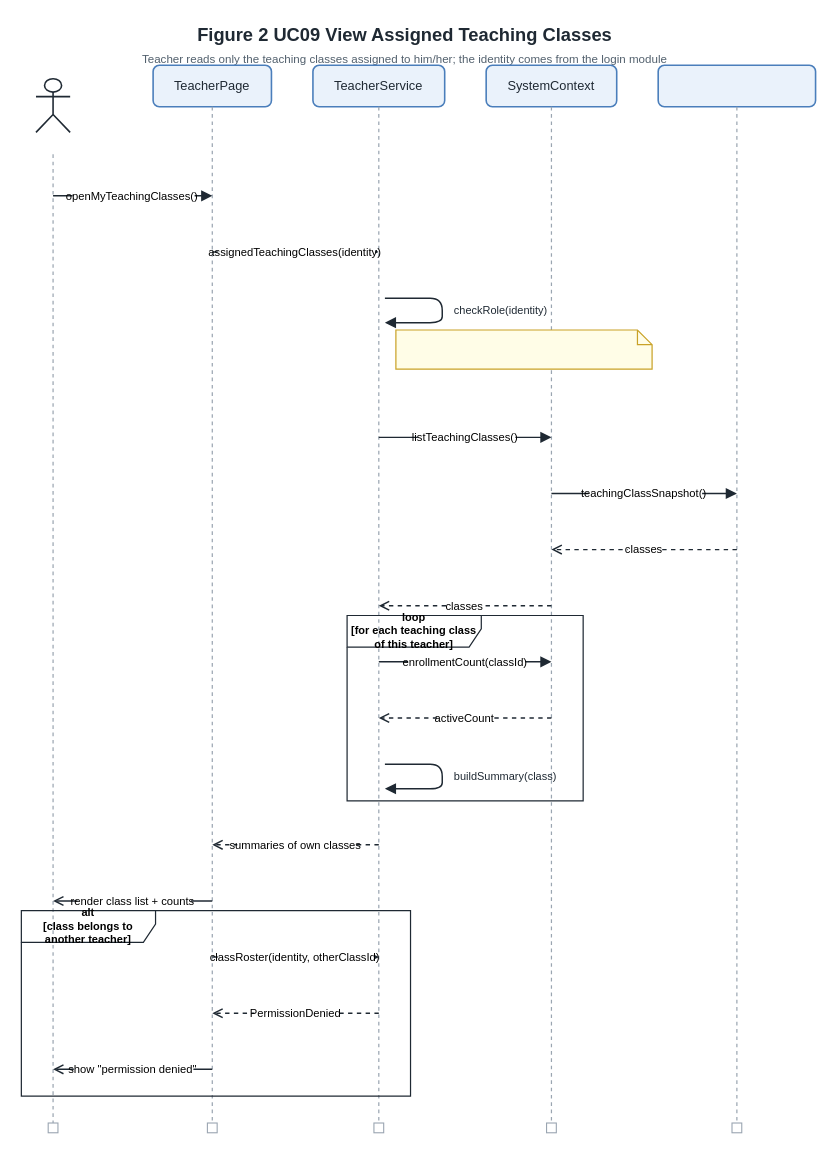
This 838x1154 diagram has some shape labels left out. The shapes that lost their labels are listed below. From the top down, each one's centre as x and y in pixels, then its label:
At point (52, 105): "Teacher".
At point (736, 85): "RegistrationService".
At point (523, 349): "role is checked before any class data is read".
